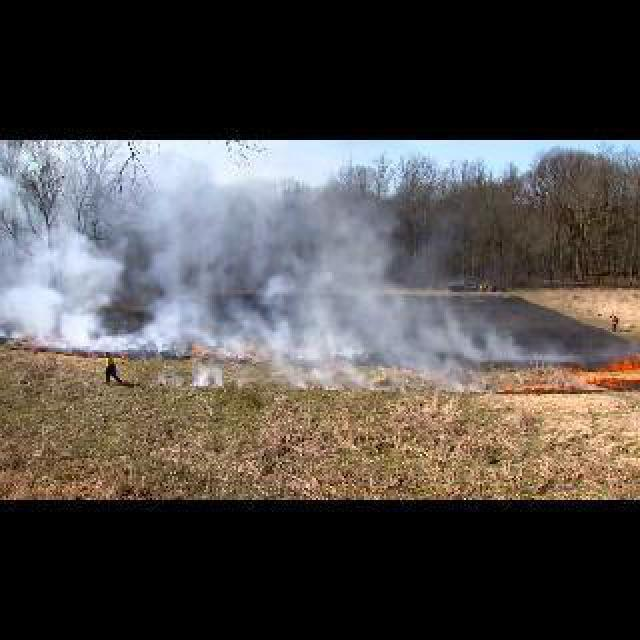Fire: (570, 368, 620, 390), (600, 356, 638, 372), (118, 352, 128, 360)
Smoke: (2, 220, 540, 356)
